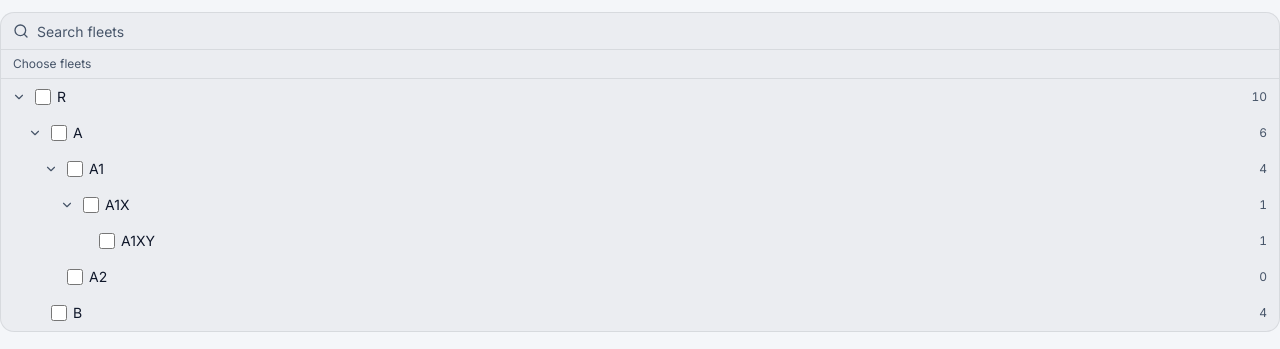
Test: F03-T2 FleetPicker › multi: a selected fleet implies its subtree (checked + dimmed + disabled)
The image size is (1280, 349).
Click the checkbox named "A" at (59, 133), box [51,125,67,141]
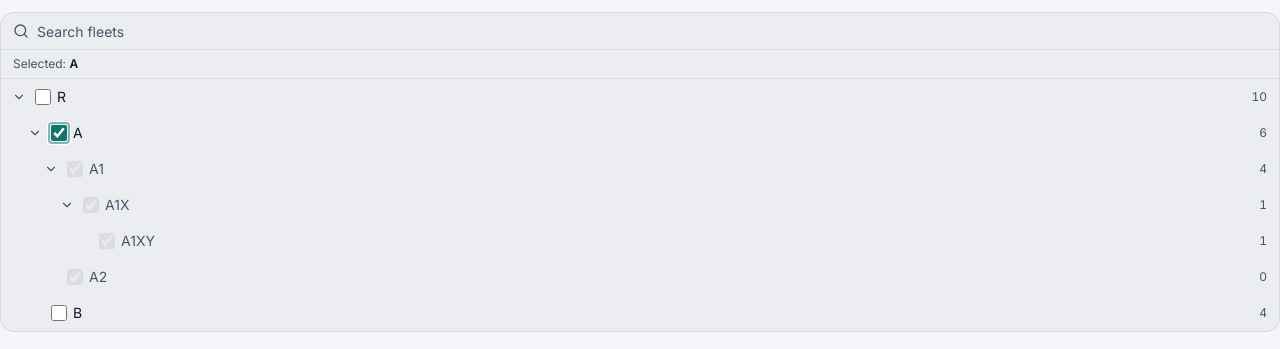
Expected: the checkbox named "B" is not checked, [51,305,67,321]
Now the element with test id "fleet-picker-summary" reads "Selected: A", box [1,50,1279,79]
